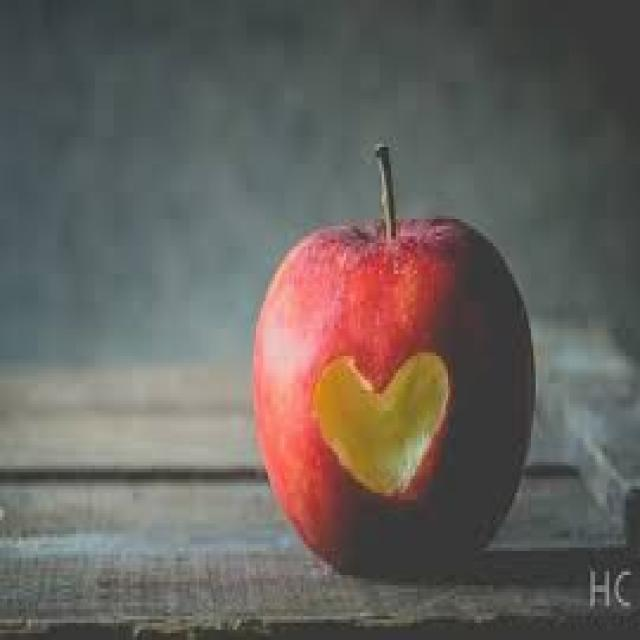organic waste: (252, 141, 534, 578)
